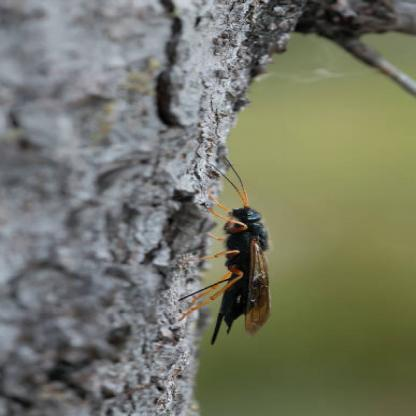sawfly: (174, 155, 281, 351)
